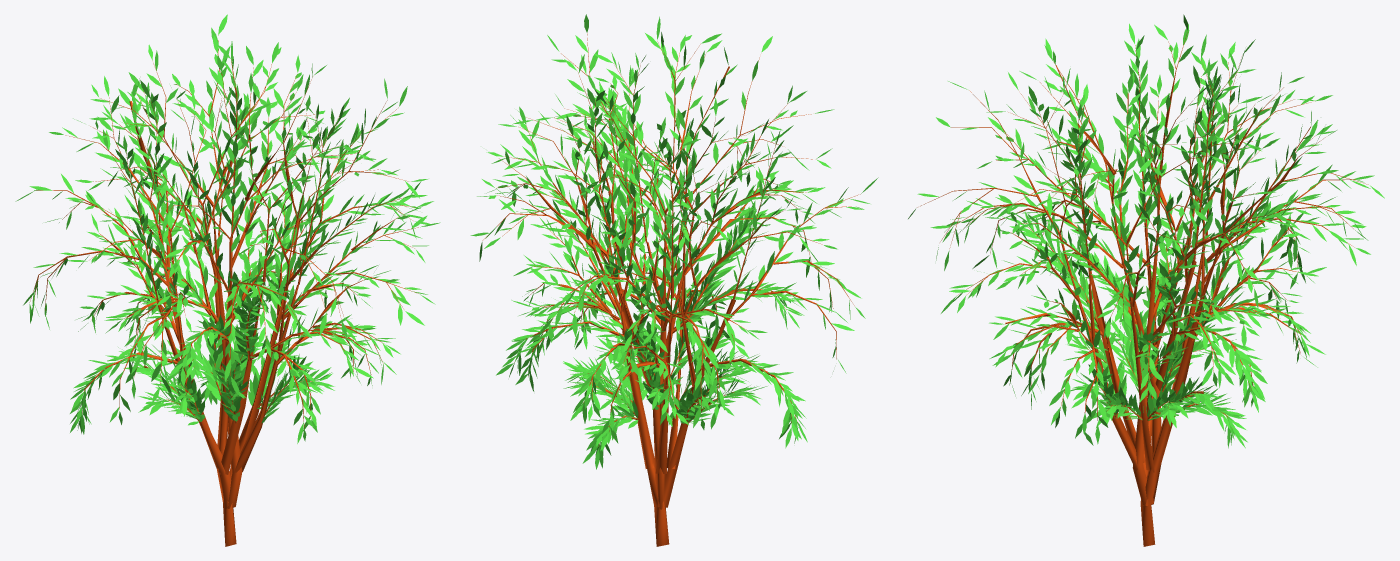
The model's file is tree test merged 0.8.fbx.
The picture shows the model from 3 angles, left to right: view 1: azimuth 30°, elevation 25°; view 2: azimuth 150°, elevation 25°; view 3: azimuth 270°, elevation 25°; orthographic projection. The views are drawn at different scales.
Parts seen in each view (by area): view 1: leaves; view 2: leaves; view 3: leaves.
Boxes of the visible parts, x1,y1,x2,y2 form: leaves: (15,14,440,546); leaves: (470,14,878,546); leaves: (908,14,1384,546).
Bounding box in the file's own units: 680 × 850 × 746.
